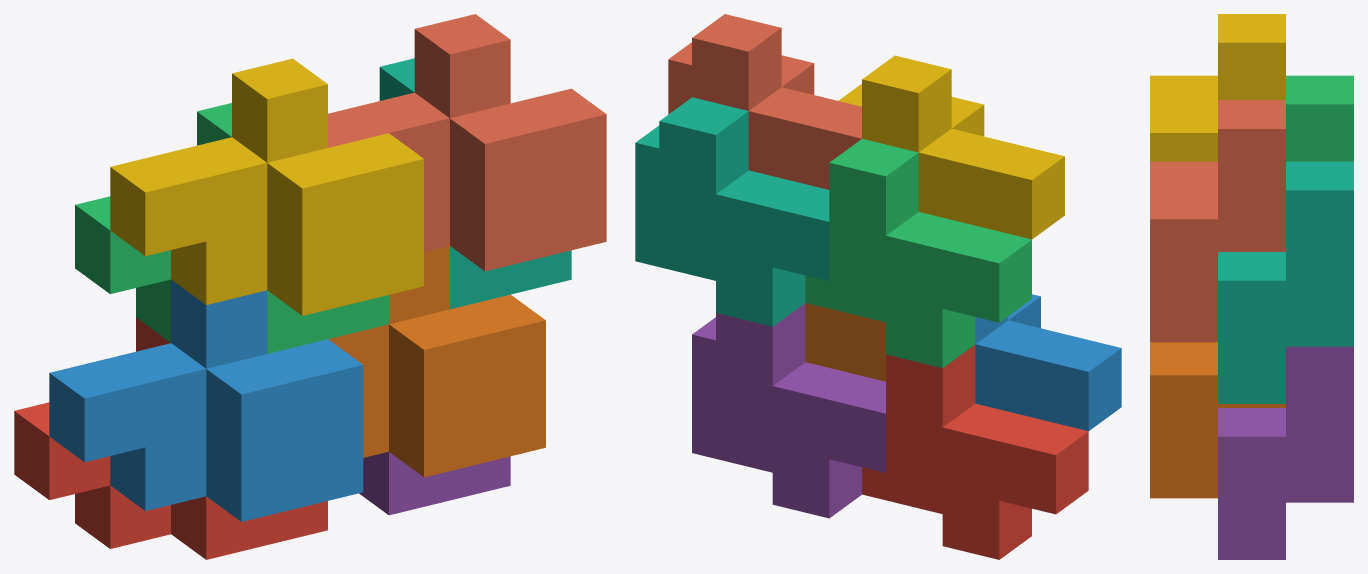
Rendered from tiling.obj.
The picture shows the model from 3 angles, left to right: view 1: azimuth 30°, elevation 25°; view 2: azimuth 150°, elevation 25°; view 3: azimuth 270°, elevation 25°; orthographic projection. The views are drawn at different scales.
Parts seen in each view (by area): view 1: copy_1_domain_4, copy_1_domain_2, copy_1_domain_8, copy_1_domain_6, copy_1_domain_1, copy_1_domain_3, copy_1_domain_5, copy_1_domain_7; view 2: copy_1_domain_7, copy_1_domain_3, copy_1_domain_1, copy_1_domain_5, copy_1_domain_4, copy_1_domain_8, copy_1_domain_2, copy_1_domain_6; view 3: copy_1_domain_7, copy_1_domain_8, copy_1_domain_5, copy_1_domain_4, copy_1_domain_6, copy_1_domain_3.
Part boxes in pixels (x1,y1,x2,y2): copy_1_domain_4: [110, 58, 423, 315]; copy_1_domain_2: [49, 279, 363, 521]; copy_1_domain_8: [328, 14, 606, 271]; copy_1_domain_6: [328, 245, 545, 477]; copy_1_domain_1: [14, 317, 327, 559]; copy_1_domain_3: [75, 103, 388, 353]; copy_1_domain_5: [359, 451, 510, 515]; copy_1_domain_7: [379, 58, 571, 309]; copy_1_domain_7: [635, 97, 829, 326]; copy_1_domain_3: [805, 138, 1031, 368]; copy_1_domain_1: [862, 345, 1088, 559]; copy_1_domain_5: [692, 303, 885, 518]; copy_1_domain_4: [838, 55, 1064, 239]; copy_1_domain_8: [668, 14, 861, 189]; copy_1_domain_2: [975, 294, 1121, 431]; copy_1_domain_6: [805, 303, 885, 381]; copy_1_domain_7: [1218, 161, 1353, 403]; copy_1_domain_8: [1150, 100, 1285, 342]; copy_1_domain_5: [1218, 346, 1353, 559]; copy_1_domain_4: [1150, 14, 1285, 161]; copy_1_domain_6: [1150, 342, 1285, 498]; copy_1_domain_3: [1286, 75, 1353, 161].
Bounding box in the file's own units: 8 × 7 × 3.
